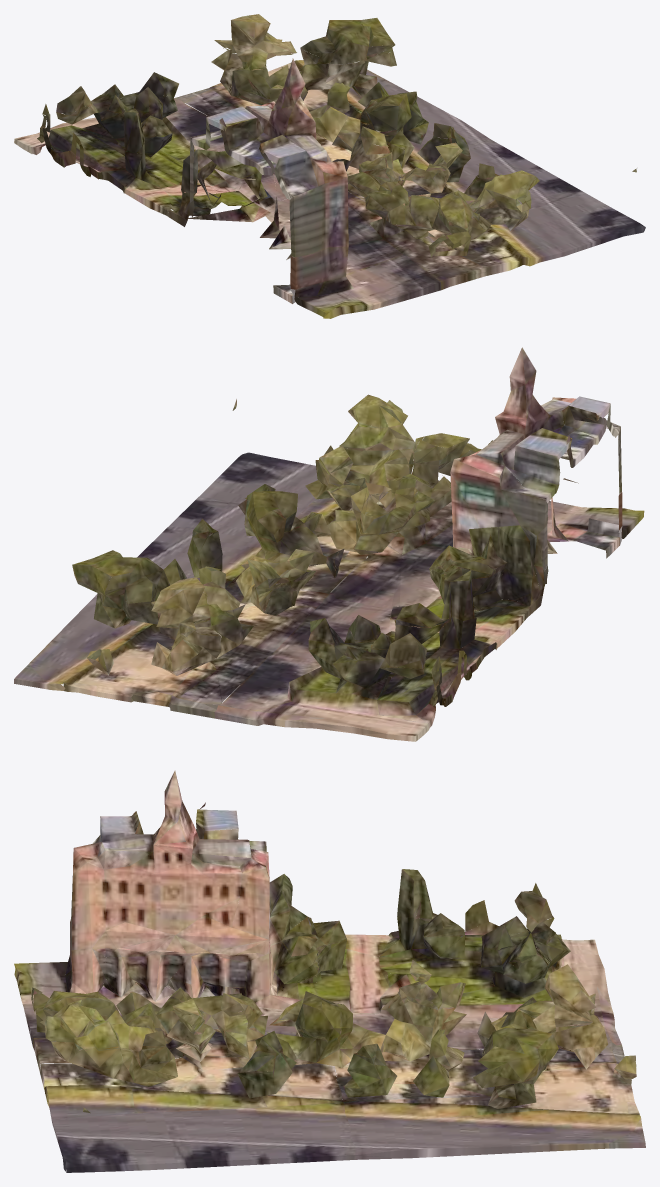
3 views of the same model, one above another, from view 1: azimuth 30°, elevation 25°; view 2: azimuth 150°, elevation 25°; view 3: azimuth 270°, elevation 25° (orthographic). The views are drawn at different scales.
Visible parts, largest first — view 1: Mesh_0; view 2: Mesh_0; view 3: Mesh_0.
Boxes of the visible parts, <box> form: Mesh_0: <box>14,14,645,318</box>; Mesh_0: <box>14,347,644,741</box>; Mesh_0: <box>14,770,645,1172</box>.
Bounding box in the file's own units: 66.56 × 34.56 × 82.51.
Materials: 2 (2 with a texture image).
